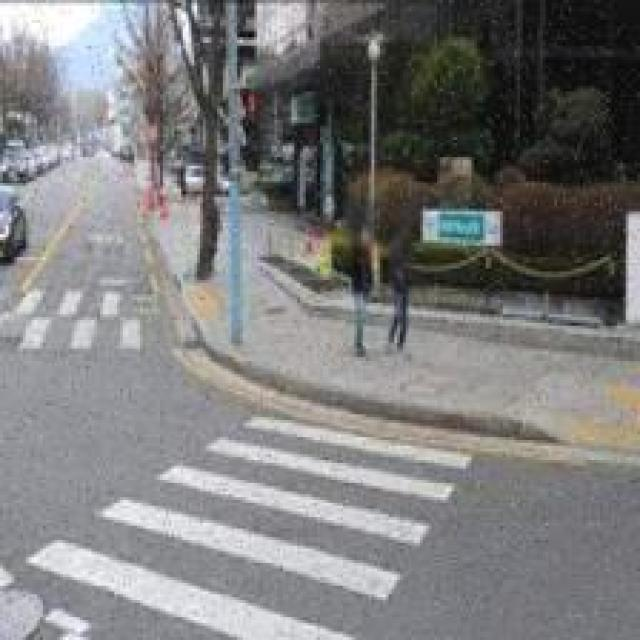walk-crossing: (0, 412, 489, 637)
